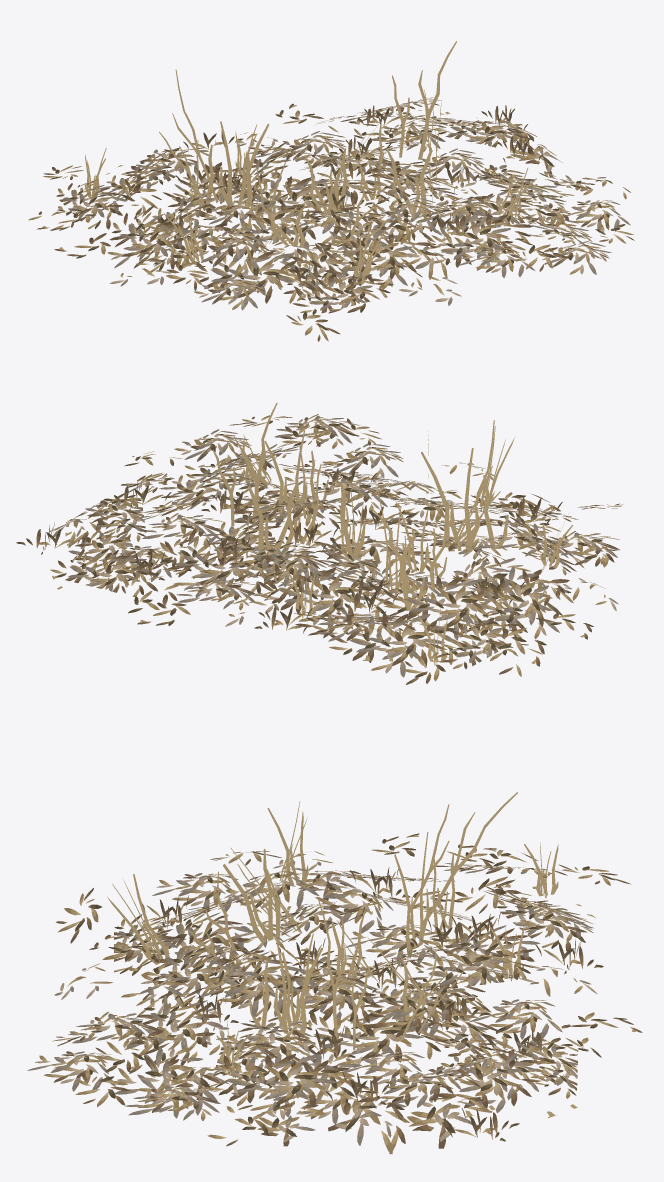
File: SM_Env_GroundCover_03.fbx
3 renders of one model, top to bottom at view 1: azimuth 30°, elevation 25°; view 2: azimuth 150°, elevation 25°; view 3: azimuth 270°, elevation 25°, orthographic. The views are drawn at different scales.
Visible parts, largest first — view 1: SM_Env_GroundCover_03_LOD0; view 2: SM_Env_GroundCover_03_LOD0; view 3: SM_Env_GroundCover_03_LOD0.
Boxes of the visible parts, x1=… form: SM_Env_GroundCover_03_LOD0: x1=28, y1=41, x2=634, y2=341; SM_Env_GroundCover_03_LOD0: x1=16, y1=403, x2=623, y2=684; SM_Env_GroundCover_03_LOD0: x1=27, y1=792, x2=642, y2=1154.
Size of what is drawn, in the model's own units: 365 by 108 by 309.
